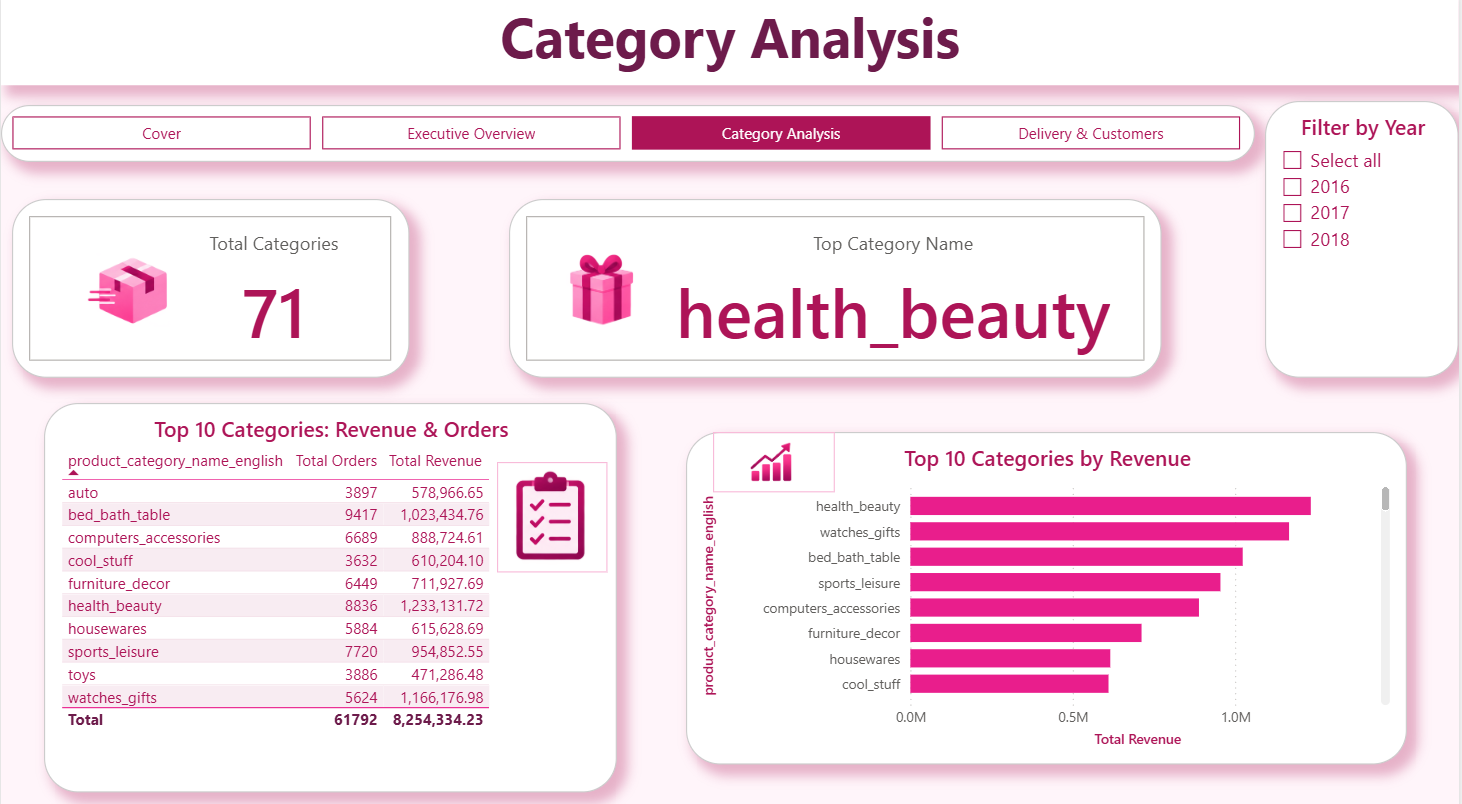

This screenshot's page, from the dashboard's own definition file:
{"tool":"powerbi","page":{"name":"Category Analysis","canvas":[1280,720],"ordinal":2},"visuals":[{"type":"clusteredBarChart","title":"Top 10 Categories by Revenue","fields":{"Y":["Key Measures.Total Revenue"],"Category":["product_category_name_translation.product_category_name_english"]},"box":[601.1,385.2,633.2,291.8],"z":0},{"type":"tableEx","title":"Top 10 Categories: Revenue & Orders","fields":{"Values":["product_category_name_translation.product_category_name_english","Key Measures.Total Orders","Key Measures.Total Revenue"]},"box":[37.9,359.9,502.9,342.4],"z":1000},{"type":"cardVisual","fields":{"Data":["Key Measures.Total Categories"]},"box":[9.7,180.9,348.6,157.2],"z":2000},{"type":"cardVisual","fields":{"Data":["Key Measures.Top Category"]},"box":[446,180.9,573.4,157.2],"z":3000},{"type":"textbox","box":[0,0,1280.2,80.8],"z":4000},{"type":"pageNavigator","box":[0,98.2,1101,49.6],"z":5000},{"type":"listSlicer","title":"Filter by Year","fields":{"Values":["olist_orders_dataset.order_purchase_timestamp.Variation.Date Hierarchy.Year"]},"box":[1109.9,94.8,170.3,243.2],"z":6000},{"type":"image","box":[435.5,411.8,97.5,97.5],"z":7000},{"type":"image","box":[625.2,385.5,107.1,52.7],"z":8000}]}

Visuals, with their boxes in screenshot pixels (x1, y1, x2, y2), scaled from the page's 1280x720 canvas onto the 1462x804 screenshot:
"Top 10 Categories by Revenue" clusteredBarChart: 687/430/1410/756
"Top 10 Categories: Revenue & Orders" tableEx: 43/402/618/784
cardVisual - Key Measures.Total Categories: 11/202/409/378
cardVisual - Key Measures.Top Category: 509/202/1164/378
textbox: 0/0/1461/90
pageNavigator: 0/110/1258/165
"Filter by Year" listSlicer: 1268/106/1461/377
image: 497/460/609/569
image: 714/430/836/489
